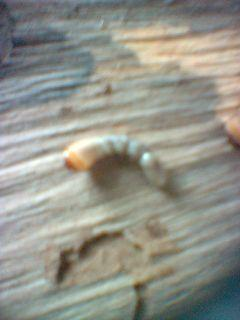grub: (58, 132, 176, 185)
